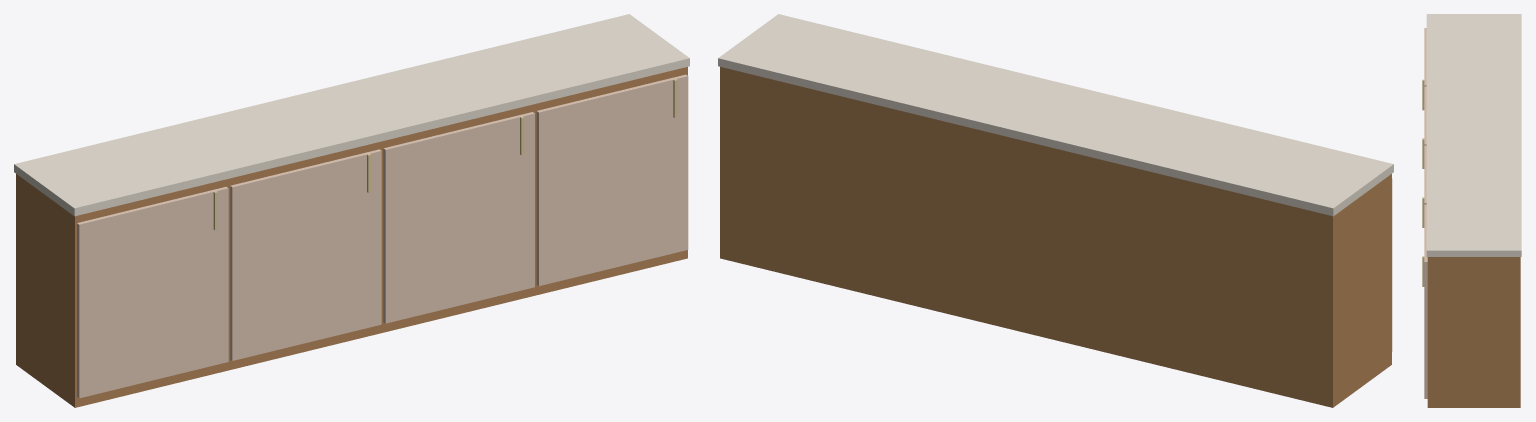
Rendered from armario_baixo_240.obj.
3 renders of one model, left to right at view 1: azimuth 30°, elevation 25°; view 2: azimuth 150°, elevation 25°; view 3: azimuth 270°, elevation 25°, orthographic. The views are drawn at different scales.
Parts seen in each view (by area): view 1: armario_baixo_240; view 2: armario_baixo_240; view 3: armario_baixo_240.
Part boxes in pixels (left/top/right/bottom): armario_baixo_240: left=14, top=14, right=689, bottom=407; armario_baixo_240: left=718, top=14, right=1393, bottom=407; armario_baixo_240: left=1422, top=14, right=1521, bottom=407.
Size of the model in its own units: 2.41 by 0.75 by 0.429.
